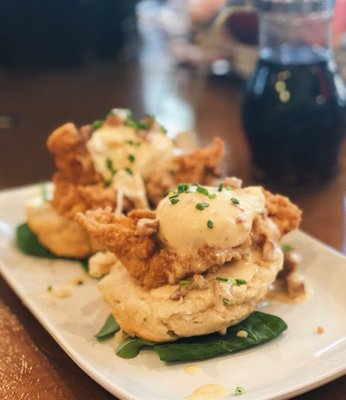burger: (240, 0, 346, 190)
